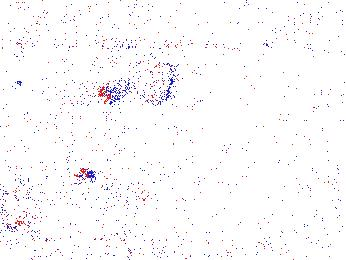flame jellyfish: (99, 51, 180, 108), (76, 167, 145, 215), (1, 173, 31, 225)
